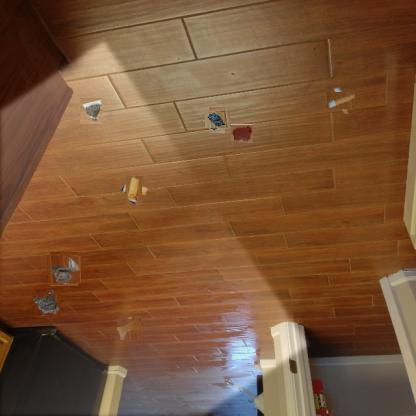dirty: (48, 254, 80, 284), (35, 292, 60, 317), (80, 98, 102, 124), (122, 179, 146, 201), (330, 89, 352, 112), (206, 109, 228, 130)
liquid: (117, 317, 141, 341), (231, 124, 253, 143)
